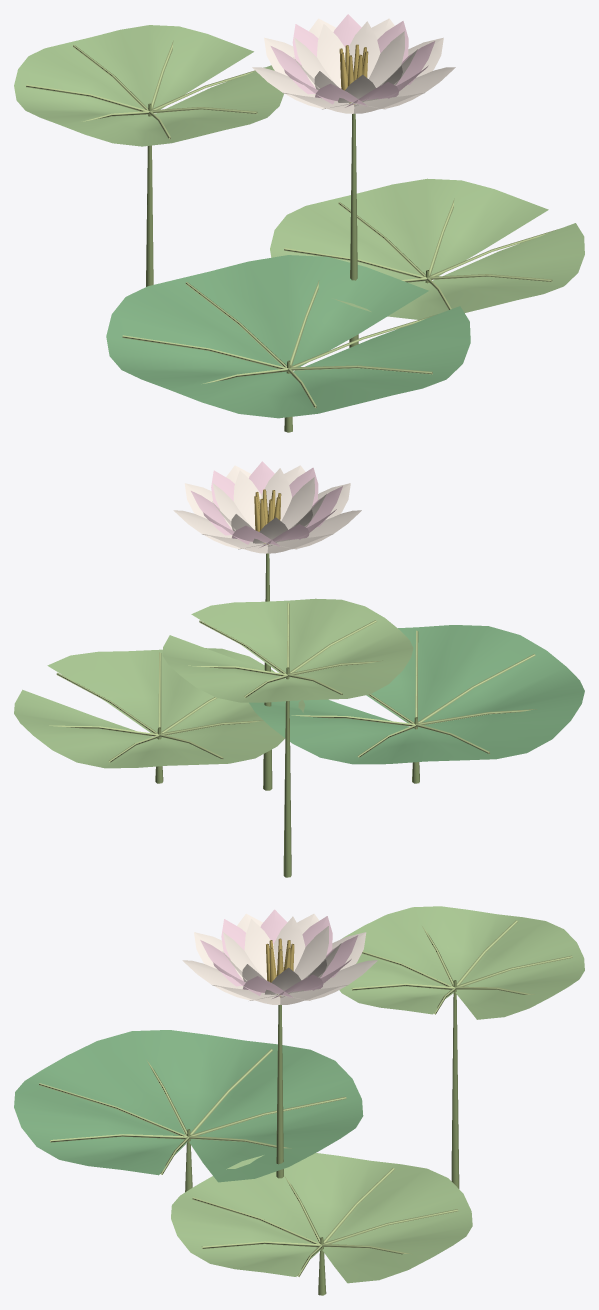
The model's file is lake_lotus_3.glb.
3 renders of one model, top to bottom at view 1: azimuth 30°, elevation 25°; view 2: azimuth 150°, elevation 25°; view 3: azimuth 270°, elevation 25°, orthographic. The views are drawn at different scales.
Visible parts, largest first — view 1: lake_lotus_3_LakeLeafLight, lake_lotus_3_LakeLeaf, lake_lotus_3_LakePetal, lake_lotus_3_LakeVein, lake_lotus_3_LakePink, lake_lotus_3_LakeReed, lake_lotus_3_LakePollen; view 2: lake_lotus_3_LakeLeafLight, lake_lotus_3_LakeLeaf, lake_lotus_3_LakePetal, lake_lotus_3_LakeVein, lake_lotus_3_LakePink, lake_lotus_3_LakeReed, lake_lotus_3_LakePollen; view 3: lake_lotus_3_LakeLeafLight, lake_lotus_3_LakeLeaf, lake_lotus_3_LakePetal, lake_lotus_3_LakeVein, lake_lotus_3_LakePink, lake_lotus_3_LakeReed, lake_lotus_3_LakePollen.
Boxes of the visible parts, x1,y1,x2,y2 form: lake_lotus_3_LakeLeafLight: (14,25,584,319); lake_lotus_3_LakeLeaf: (106,255,470,418); lake_lotus_3_LakePetal: (252,18,455,113); lake_lotus_3_LakeVein: (26,40,557,408); lake_lotus_3_LakePink: (270,14,435,107); lake_lotus_3_LakeReed: (146,103,429,432); lake_lotus_3_LakePollen: (339,44,368,104); lake_lotus_3_LakeLeafLight: (14,598,413,768); lake_lotus_3_LakeLeaf: (249,625,584,764); lake_lotus_3_LakePetal: (173,465,361,553); lake_lotus_3_LakeVein: (49,602,536,762); lake_lotus_3_LakePink: (191,461,342,547); lake_lotus_3_LakeReed: (155,553,419,877); lake_lotus_3_LakePollen: (254,489,281,544); lake_lotus_3_LakeLeafLight: (171,906,584,1283); lake_lotus_3_LakeLeaf: (14,1030,363,1182); lake_lotus_3_LakePetal: (182,913,377,1004); lake_lotus_3_LakeVein: (39,920,572,1276); lake_lotus_3_LakePink: (200,909,358,998); lake_lotus_3_LakeReed: (185,980,459,1295); lake_lotus_3_LakePollen: (266,938,294,996).
Size of the model in its own units: 1.73 by 1.06 by 1.78.
